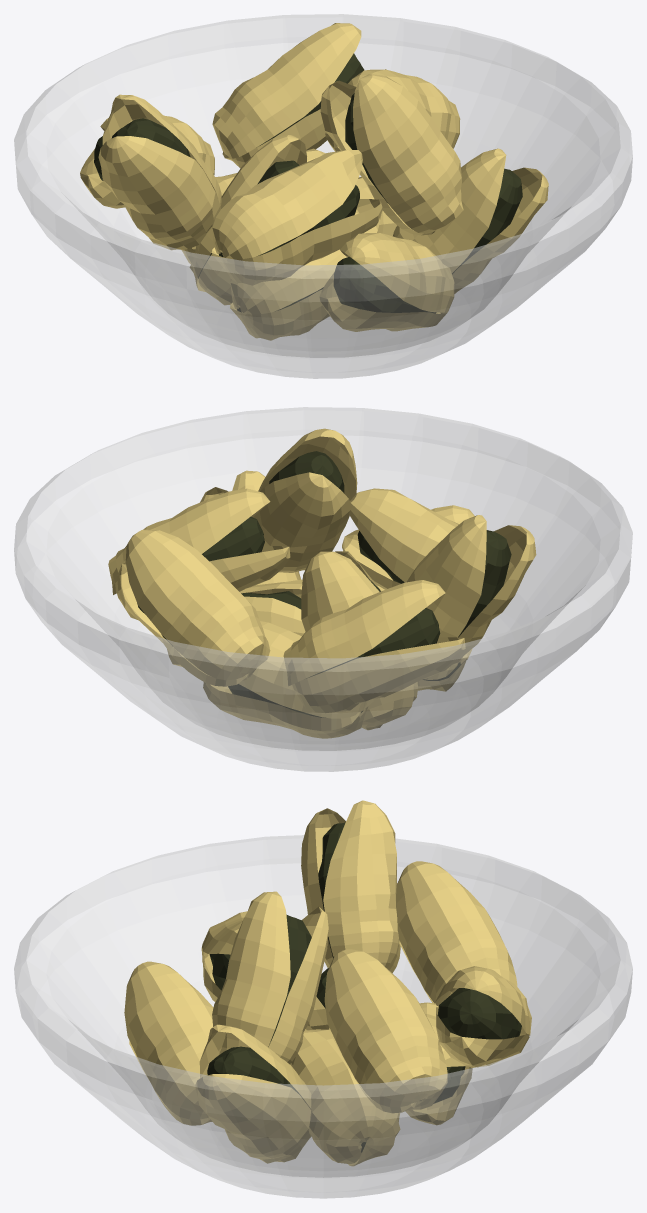
The model's file is phistachio_in_cup.glb.
3 views of the same model, one above another, from view 1: azimuth 30°, elevation 25°; view 2: azimuth 150°, elevation 25°; view 3: azimuth 270°, elevation 25° (orthographic).
Parts seen in each view (by area): view 1: Cylinder, Sphere.009, Sphere.010, Sphere.012, Sphere.008, Sphere.005, Sphere.004, Sphere.006, Sphere.002, Sphere.007, Sphere.011, Sphere.001 (+1 smaller); view 2: Cylinder, Sphere.011, Sphere.008, Sphere.010, Sphere.012, Sphere.007, Sphere.009, Sphere.001, Sphere.002, Sphere.003, Sphere.004, Sphere.006; view 3: Cylinder, Sphere.007, Sphere.010, Sphere.012, Sphere.004, Sphere.011, Sphere.005, Sphere.003, Sphere.008, Sphere.001, Sphere.009, Sphere.002.
Part boxes in pixels (x1,y1,x2,y2): Cylinder: [14, 14, 632, 378]; Sphere.009: [211, 149, 382, 285]; Sphere.010: [320, 74, 463, 235]; Sphere.012: [98, 94, 221, 250]; Sphere.008: [212, 23, 385, 168]; Sphere.005: [319, 233, 454, 331]; Sphere.004: [393, 148, 548, 293]; Sphere.006: [230, 212, 381, 340]; Sphere.002: [189, 135, 306, 305]; Sphere.007: [325, 69, 460, 151]; Sphere.011: [80, 115, 214, 208]; Sphere.001: [181, 148, 325, 264]; Cylinder: [14, 407, 632, 771]; Sphere.011: [283, 580, 465, 713]; Sphere.008: [117, 529, 270, 686]; Sphere.010: [253, 428, 357, 572]; Sphere.012: [407, 515, 536, 664]; Sphere.007: [108, 488, 290, 619]; Sphere.009: [342, 488, 458, 589]; Sphere.001: [203, 621, 373, 738]; Sphere.002: [301, 551, 417, 729]; Sphere.003: [167, 579, 305, 666]; Sphere.004: [200, 470, 300, 585]; Sphere.006: [377, 585, 472, 691]; Cylinder: [14, 835, 632, 1198]; Sphere.007: [324, 949, 447, 1113]; Sphere.010: [212, 891, 328, 1064]; Sphere.012: [301, 800, 400, 973]; Sphere.004: [195, 1024, 311, 1163]; Sphere.011: [396, 861, 517, 1003]; Sphere.005: [124, 961, 213, 1125]; Sphere.003: [290, 1029, 400, 1166]; Sphere.008: [435, 966, 531, 1067]; Sphere.001: [405, 1002, 472, 1125]; Sphere.009: [201, 911, 247, 1001]; Sphere.002: [306, 968, 329, 1030].
Size of the model in its own units: 3.44 by 1.62 by 3.44.
